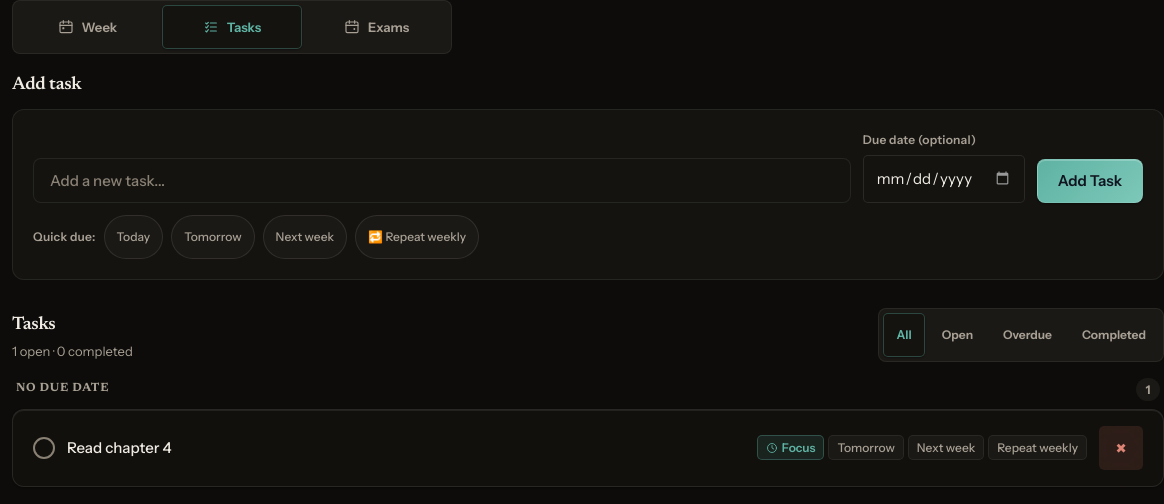
it: TasksView › does not toggle the task when the text is double-clicked to rename
This screenshot has width=1164, height=504.
Double-click the text "Read chapter 4" at (119, 447), box x1=67 y1=438 x2=172 y2=457
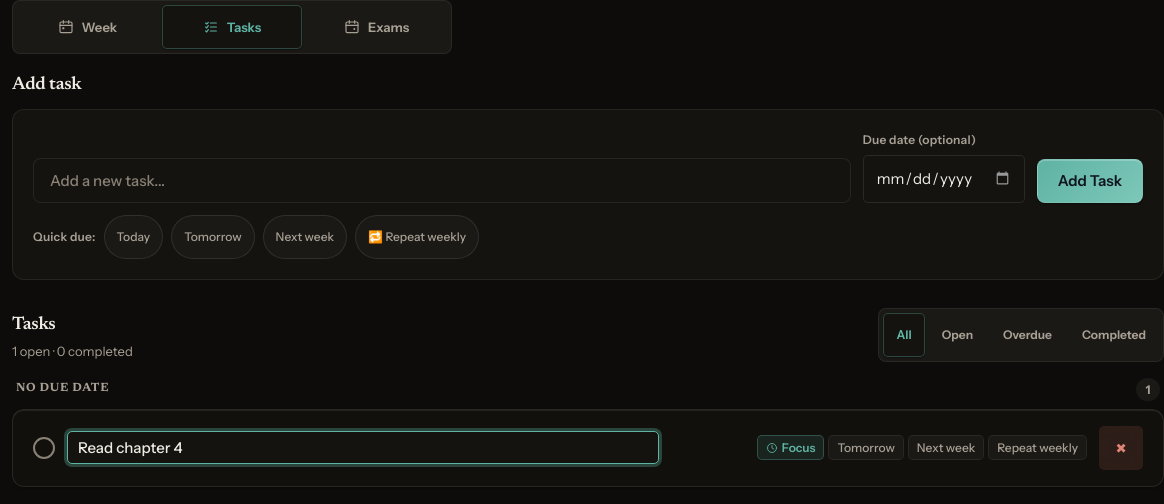
Result: the field named "Edit task text" is shown at x1=67 y1=431 x2=659 y2=464
